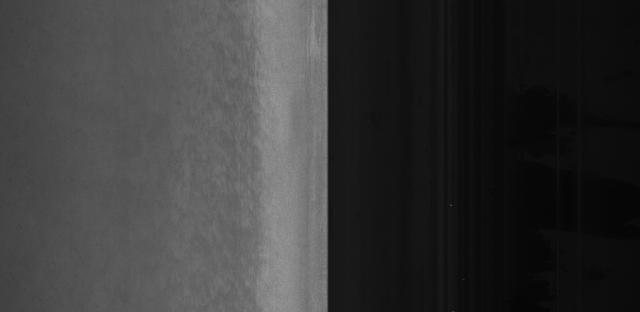silk_spot: (215, 45, 285, 212)
